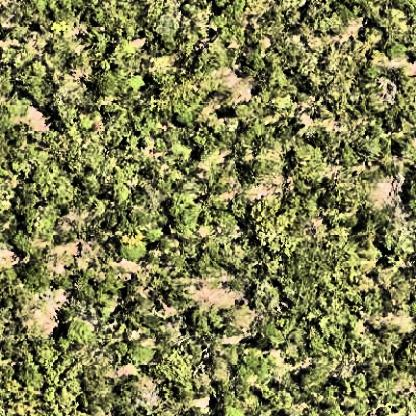tree-top: (243, 193, 306, 256), (148, 351, 207, 409)
